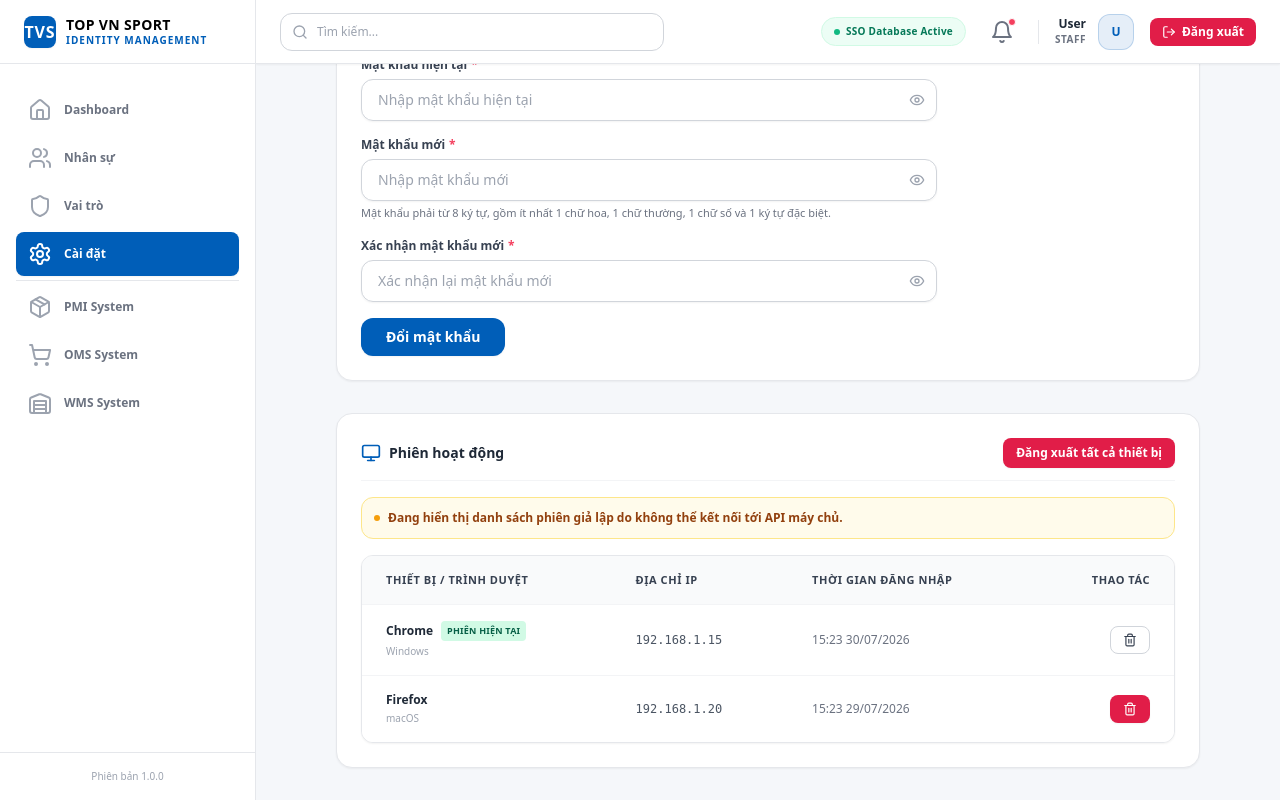
Scenario: revoking a mock session removes it locally
The image size is (1280, 800).
(page scrolled)
Expected: the text "Chrome" is shown, [386, 622, 433, 638]
Expected: the text "Firefox" is shown, [386, 692, 427, 708]
Step 1. Click the button without text in the row of "Firefox" → (1130, 708), box [1110, 694, 1150, 722]
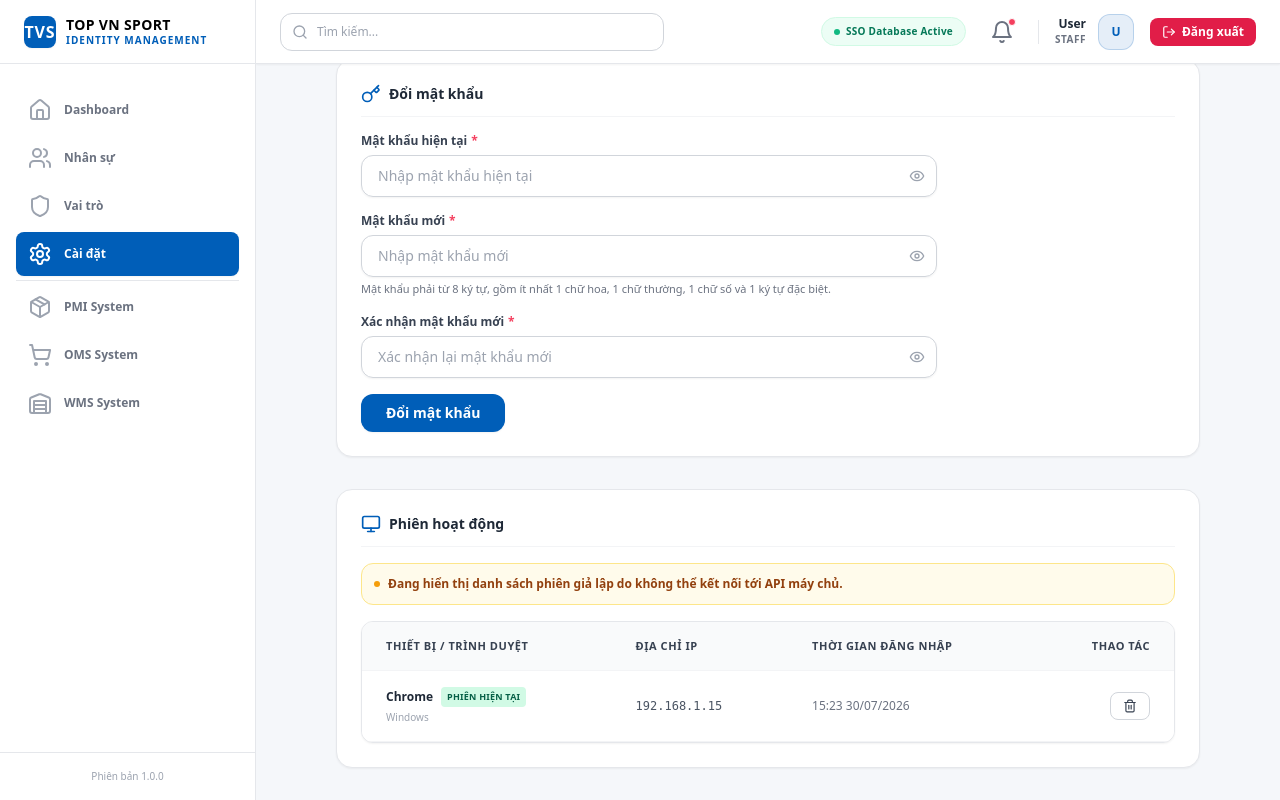
Result: the text "Firefox" is gone
